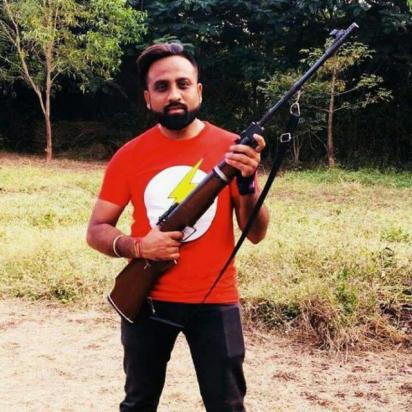Gun: (103, 18, 362, 327)
